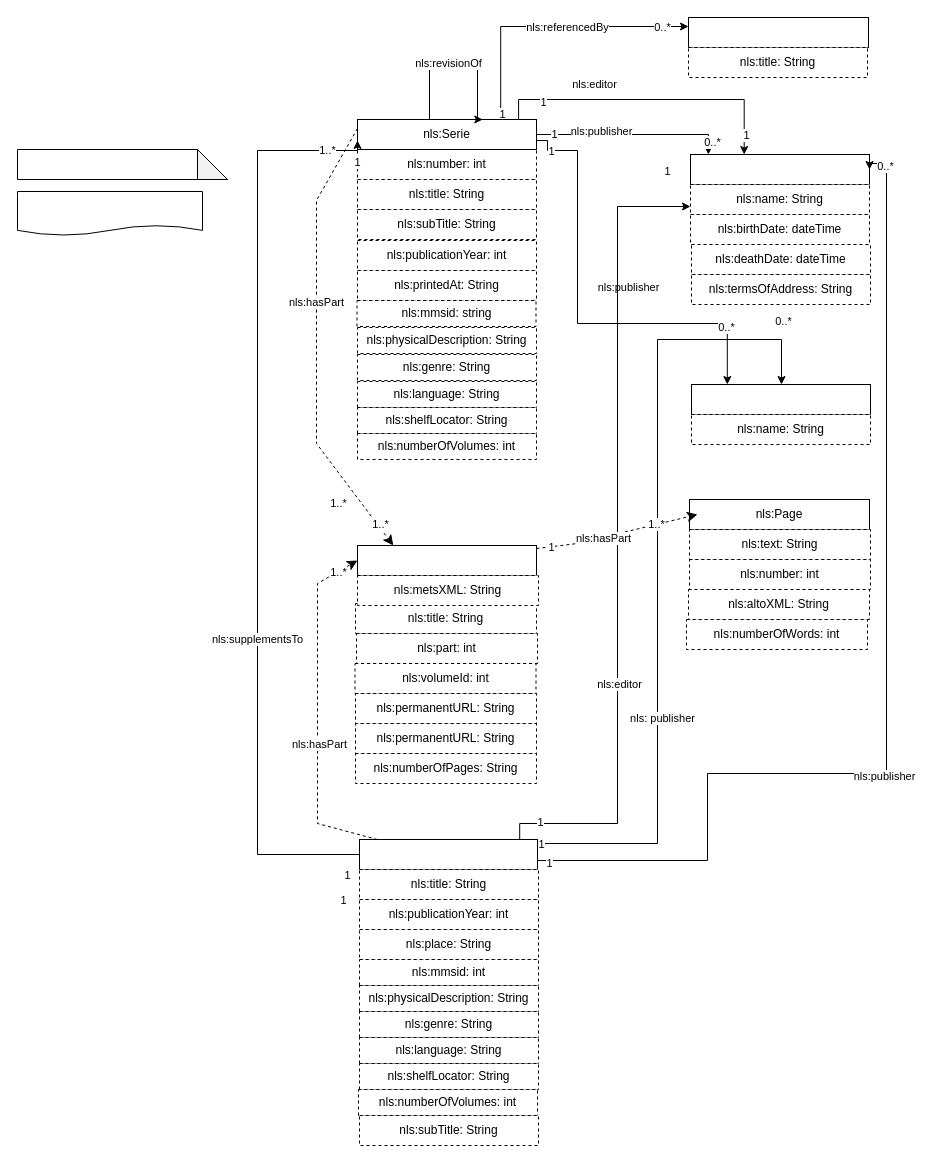
The diagram is 932 pixels wide and 1163 high, and some of its shapes have lost their labels. The centre of each missing label's shape, as x and y in pixels:
dc:creator: Rosa Filgueira owl:versionInfo: 0.0.1 dc:title: NLS Ontology: (109,213)
nls : https://w3id.org/nls/: (122,164)
nls:Book: (778,32)
nls:Organization: (780,399)
nls:Person: (780,169)
nls:Supplement: (448,854)
nls:Volume: (446,560)
